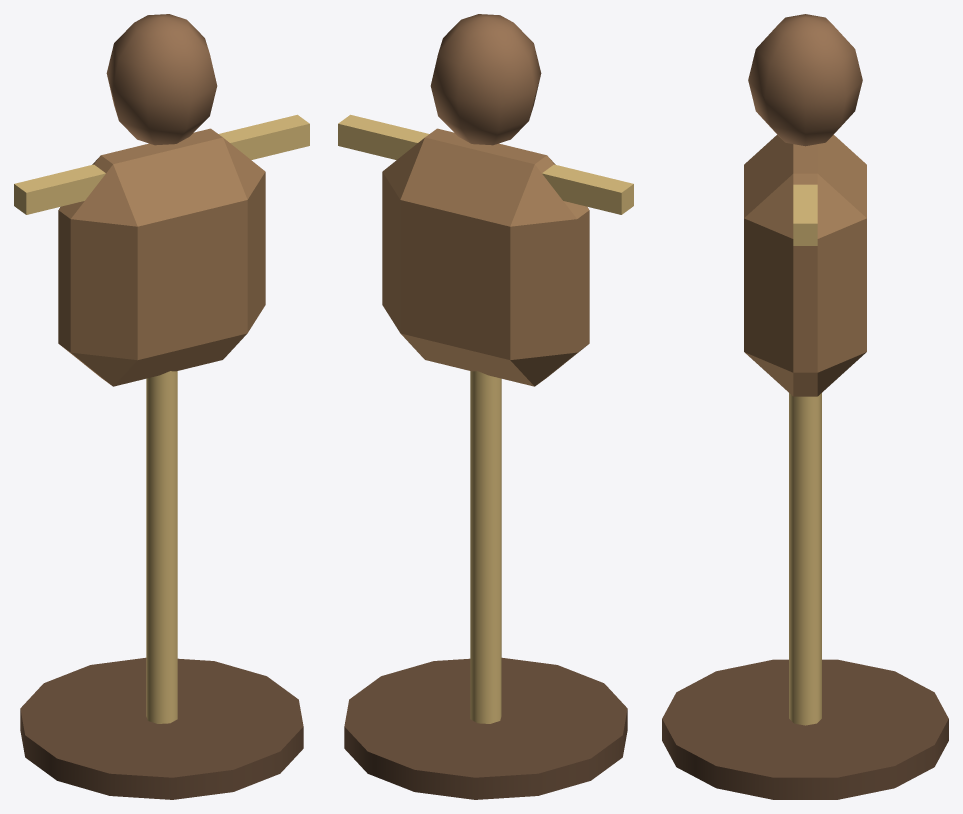
The model's file is hm_armor.glb.
The picture shows the model from 3 angles, left to right: view 1: azimuth 30°, elevation 25°; view 2: azimuth 150°, elevation 25°; view 3: azimuth 270°, elevation 25°; orthographic projection.
Visible parts, largest first — view 1: hm_armor; view 2: hm_armor; view 3: hm_armor.
Part boxes in pixels (bbox=[...]): hm_armor: bbox=[14, 14, 309, 799]; hm_armor: bbox=[338, 14, 633, 799]; hm_armor: bbox=[662, 14, 948, 799].
Size of the model in its own units: 0.8 by 1.95 by 0.7.
